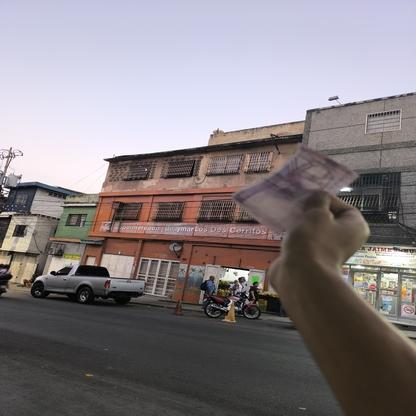vef_back: (230, 142, 361, 236)
